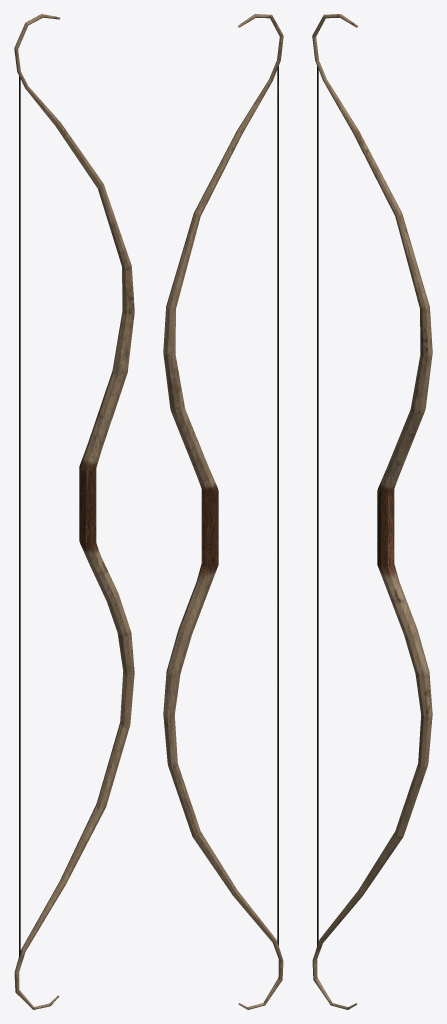
Rendered from bow.fbx.
3 renders of one model, left to right at view 1: azimuth 30°, elevation 25°; view 2: azimuth 210°, elevation 25°; view 3: azimuth 330°, elevation 25°, orthographic.
Parts seen in each view (by area): view 1: Cylinder; view 2: Cylinder; view 3: Cylinder.
Part boxes in pixels (x1,y1,x2,y2): Cylinder: (14, 14, 134, 1009); Cylinder: (163, 14, 283, 1009); Cylinder: (312, 14, 432, 1009).
Bounding box in the file's own units: 1.21 × 9.59 × 0.1523.
1 material, 1 textured.
